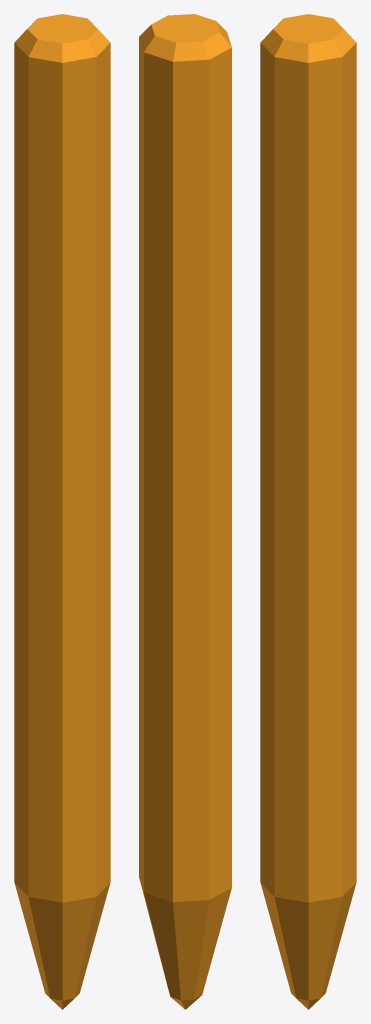
The model's file is SM_Prop_Horseshoe_Pole_01.fbx.
The picture shows the model from 3 angles, left to right: view 1: azimuth 90°, elevation 25°; view 2: azimuth 210°, elevation 25°; view 3: azimuth 270°, elevation 25°; orthographic projection.
Visible parts, largest first — view 1: SM_Prop_Horseshoe_Pole_01; view 2: SM_Prop_Horseshoe_Pole_01; view 3: SM_Prop_Horseshoe_Pole_01.
Part boxes in pixels (left/top/right/bottom): SM_Prop_Horseshoe_Pole_01: left=14, top=14, right=110, bottom=1009; SM_Prop_Horseshoe_Pole_01: left=139, top=14, right=231, bottom=1009; SM_Prop_Horseshoe_Pole_01: left=260, top=14, right=356, bottom=1009.
Size of the model in its own units: 4.22 by 47.47 by 4.22.
